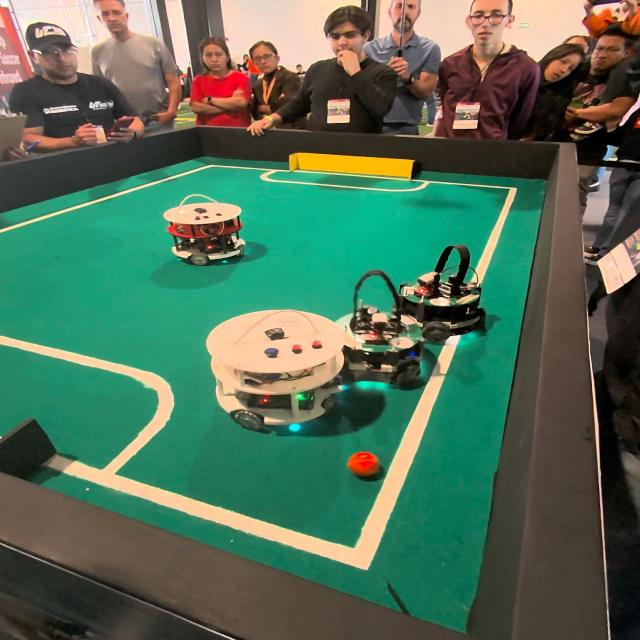Robot: (213, 293, 344, 440), (340, 270, 427, 387), (406, 238, 485, 346), (162, 188, 247, 273)
pelota: (346, 452, 381, 481)
